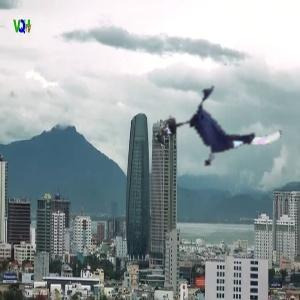drone: (174, 76, 279, 181)
